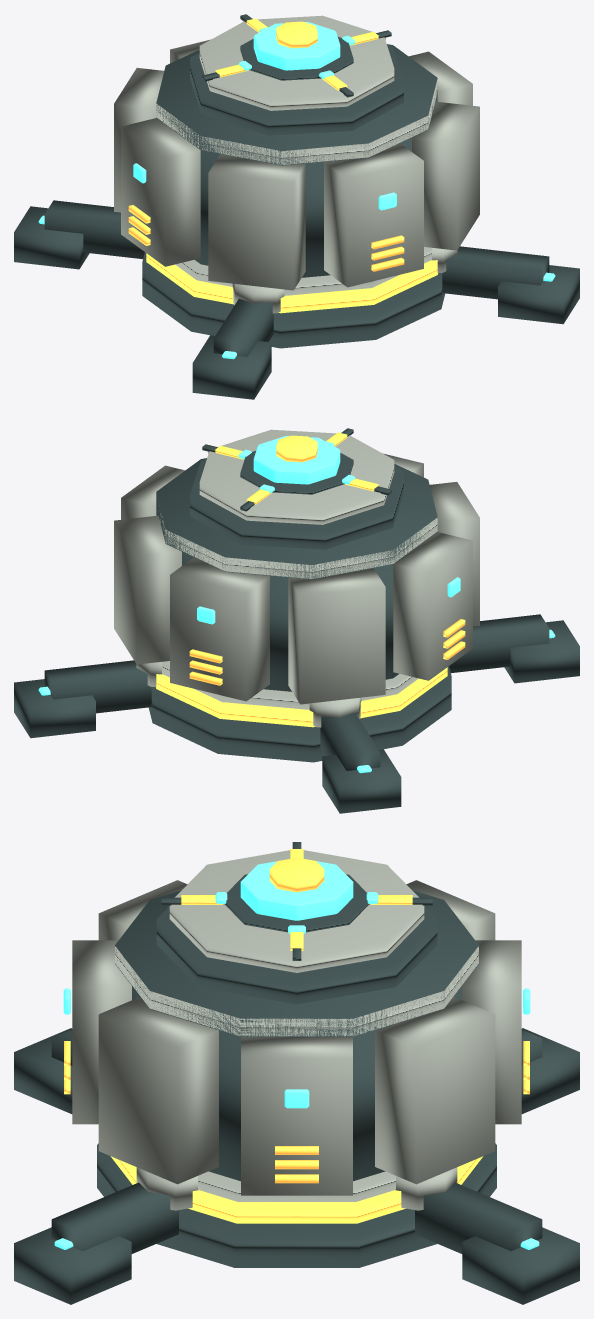
File: salvage-pod.glb
The picture shows the model from 3 angles, top to bottom: view 1: azimuth 30°, elevation 25°; view 2: azimuth 150°, elevation 25°; view 3: azimuth 270°, elevation 25°; orthographic projection. The views are drawn at different scales.
Parts seen in each view (by area): view 1: Salvage pod ceramic alloy, Salvage pod graphite frame, Salvage pod amber signal, Salvage pod cyan status; view 2: Salvage pod ceramic alloy, Salvage pod graphite frame, Salvage pod amber signal, Salvage pod cyan status; view 3: Salvage pod ceramic alloy, Salvage pod graphite frame, Salvage pod amber signal, Salvage pod cyan status.
Part boxes in pixels (x1,y1,x2,y2): Salvage pod ceramic alloy: [114, 15, 479, 313]; Salvage pod graphite frame: [14, 14, 579, 399]; Salvage pod amber signal: [128, 18, 437, 313]; Salvage pod cyan status: [38, 22, 555, 359]; Salvage pod ceramic alloy: [114, 429, 479, 727]; Salvage pod graphite frame: [14, 428, 579, 813]; Salvage pod amber signal: [156, 432, 465, 727]; Salvage pod cyan status: [38, 436, 555, 773]; Salvage pod ceramic alloy: [72, 850, 521, 1210]; Salvage pod graphite frame: [14, 842, 579, 1304]; Salvage pod amber signal: [64, 849, 529, 1223]; Salvage pod cyan status: [54, 861, 539, 1249].
Size of the model in its own units: 2.18 by 1.35 by 2.18.
